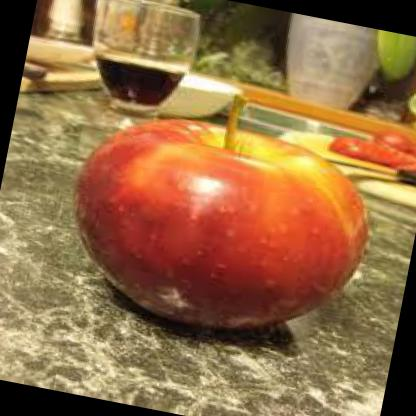apple: (49, 62, 399, 359)
